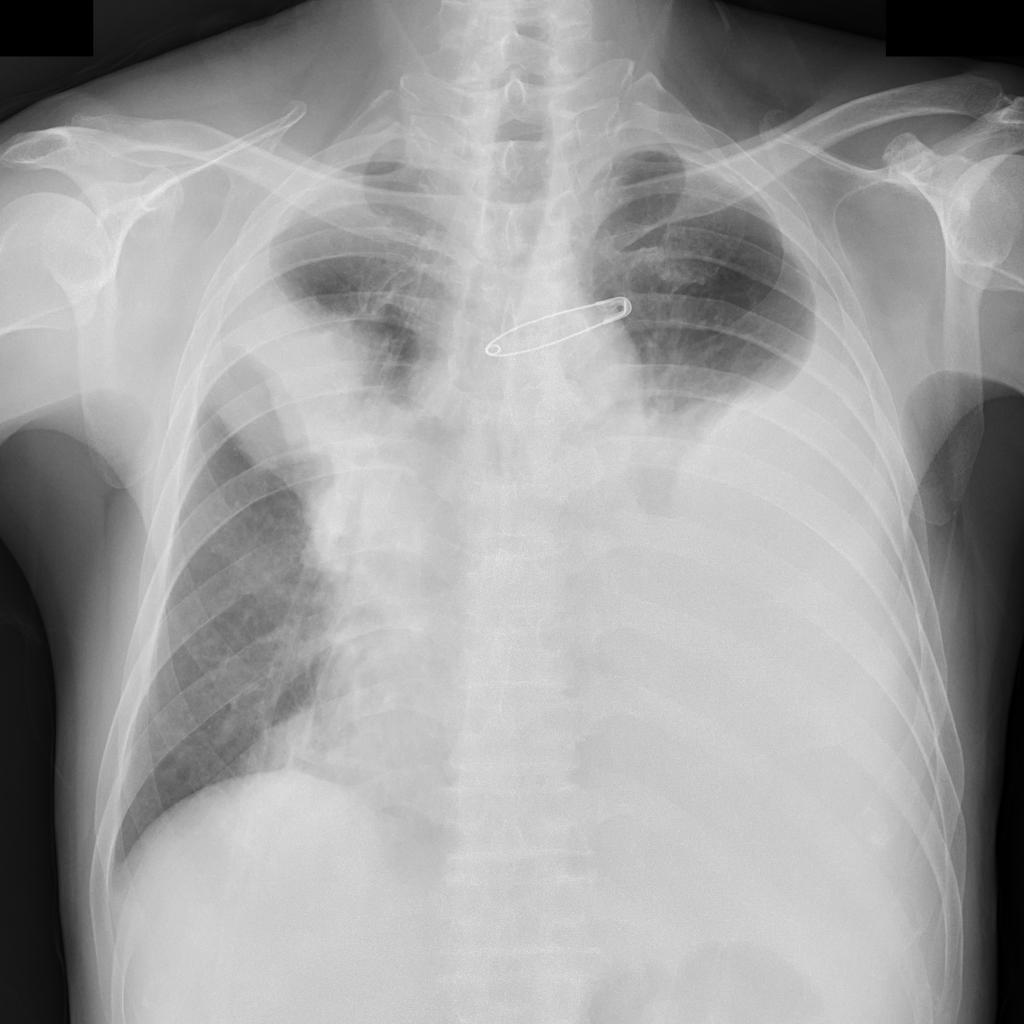Nodule: (200, 271, 394, 503)
